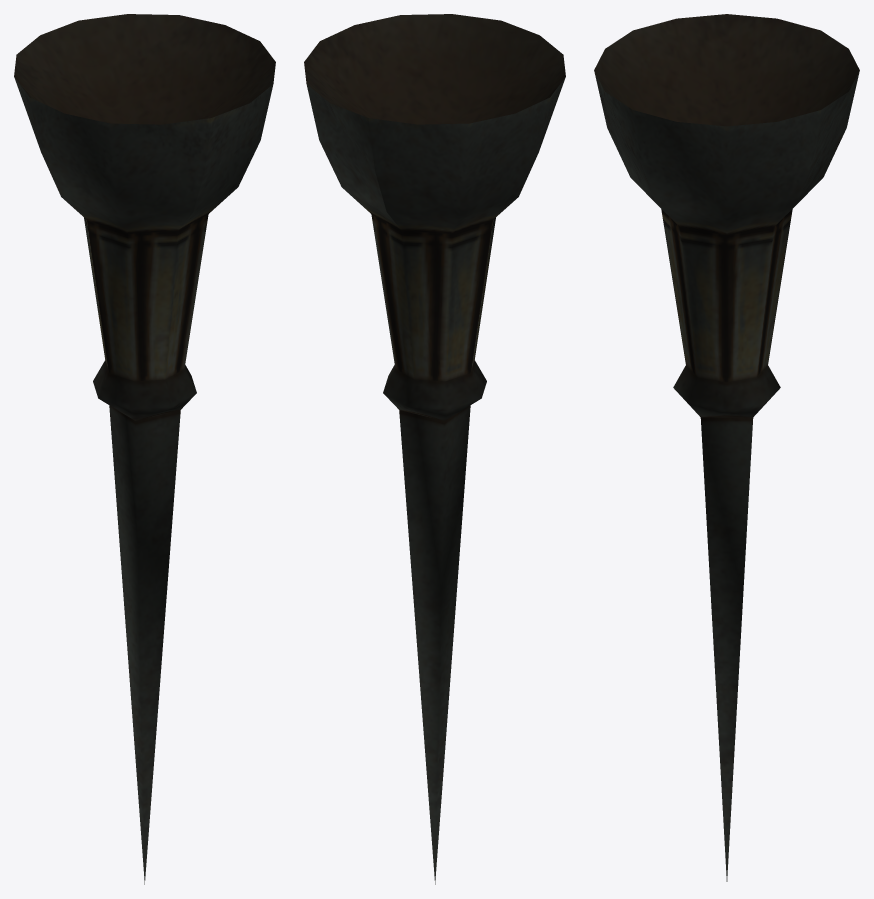
The model's file is Torch_02_Handheld.fbx.
The picture shows the model from 3 angles, left to right: view 1: azimuth 30°, elevation 25°; view 2: azimuth 150°, elevation 25°; view 3: azimuth 270°, elevation 25°; orthographic projection.
Parts seen in each view (by area): view 1: Torch_02_Handheld; view 2: Torch_02_Handheld; view 3: Torch_02_Handheld.
Boxes of the visible parts, box(x1,y1,x2,y2) form: Torch_02_Handheld: box(14, 14, 275, 884); Torch_02_Handheld: box(304, 14, 565, 884); Torch_02_Handheld: box(594, 14, 859, 881).
Bounding box in the file's own units: 0.2344 × 0.7929 × 0.2344.
1 material, 1 textured.
